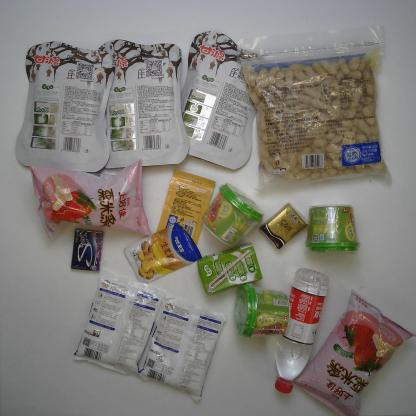Dried Food: (231, 21, 395, 195)
Dried Fruit: (13, 39, 116, 175), (94, 38, 191, 169), (177, 30, 265, 172)
Drink: (272, 267, 330, 394)
Gum: (67, 226, 105, 272)
Instant Drink: (199, 182, 266, 250), (232, 282, 291, 339), (304, 204, 362, 254)
Milk: (195, 241, 263, 295)
Puffed Food: (291, 289, 416, 416), (29, 158, 152, 242)
Seasoner: (72, 266, 168, 379), (138, 291, 229, 403), (122, 220, 203, 286), (154, 167, 217, 247)
Tissue: (256, 200, 310, 250)
